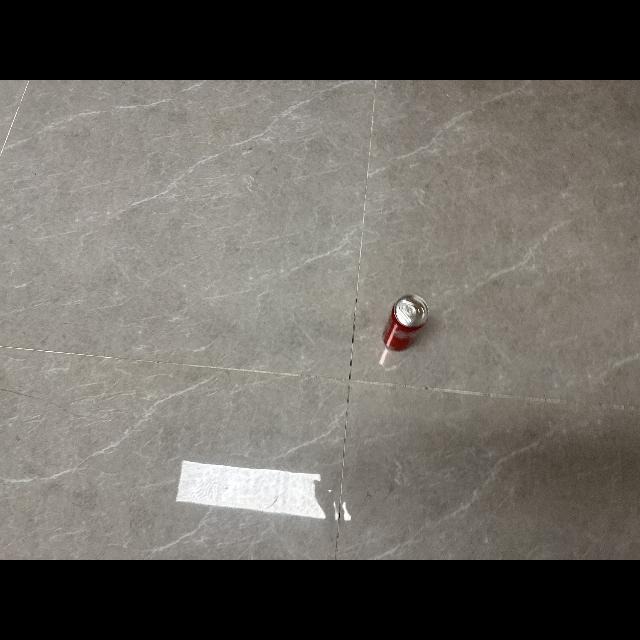Cola: (381, 292, 431, 356)
